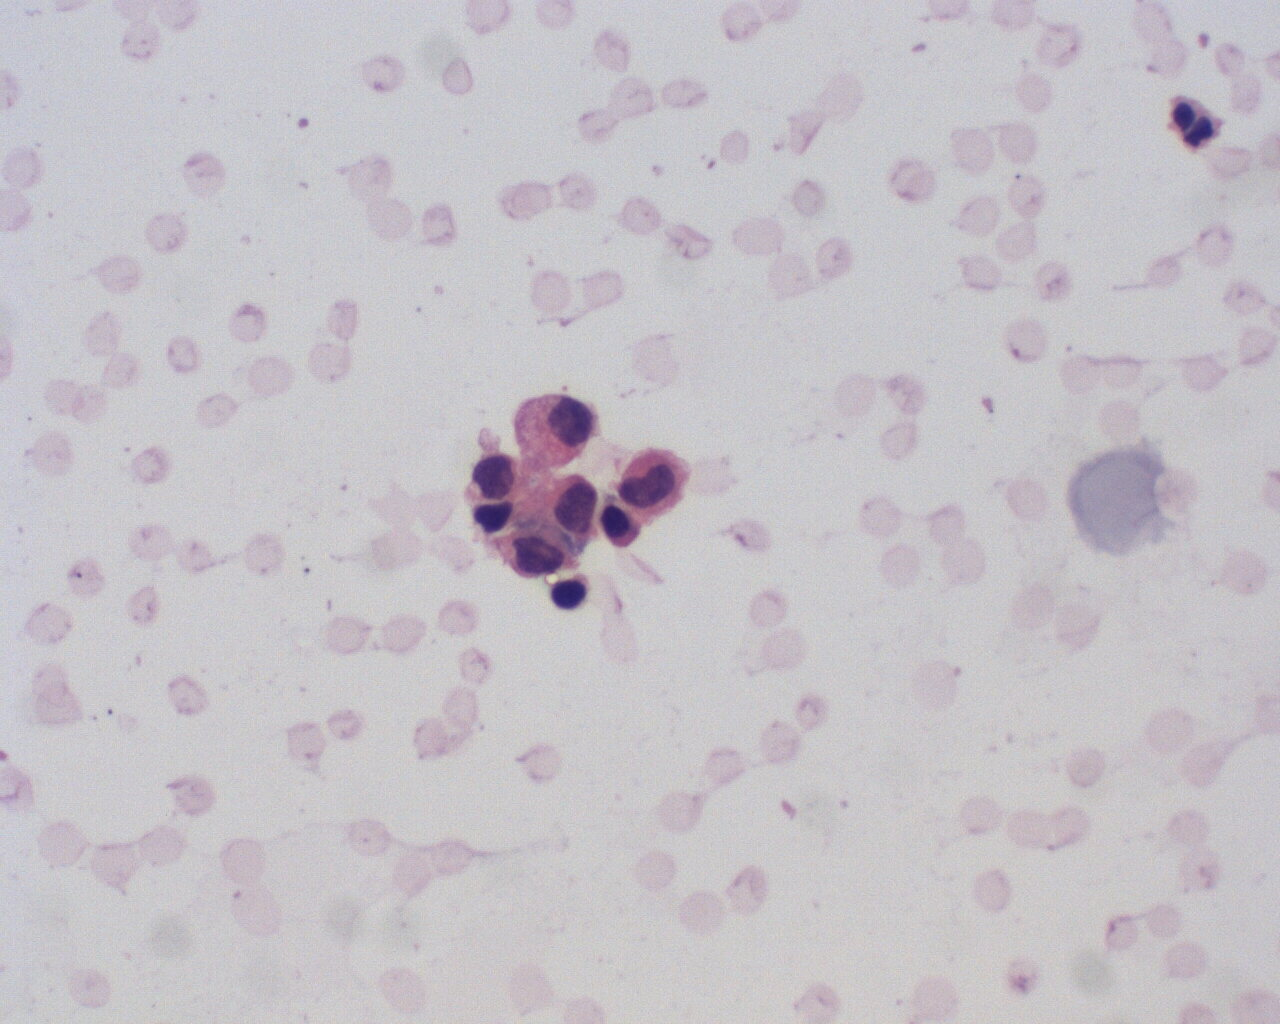ab: (614, 444, 694, 522)
meso: (516, 386, 595, 467)
